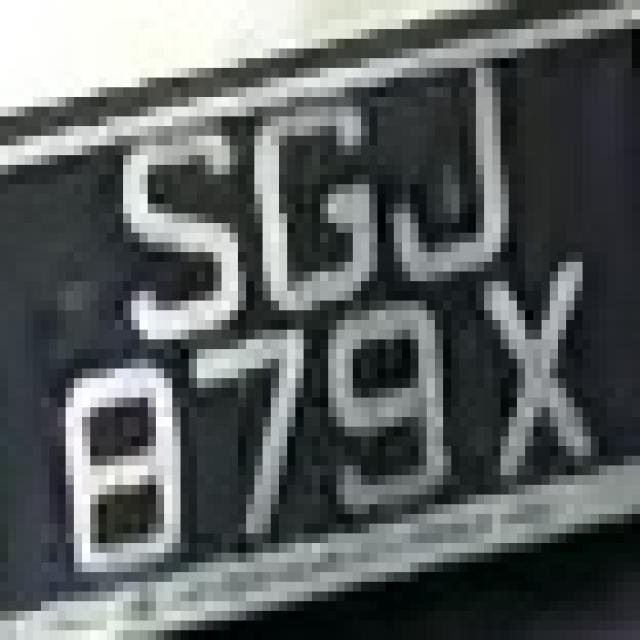7: (164, 310, 312, 543)
8: (41, 339, 197, 611)
9: (320, 301, 468, 543)
G: (230, 48, 386, 330)
J: (370, 29, 534, 281)
S: (98, 107, 238, 349)
X: (443, 242, 624, 504)
